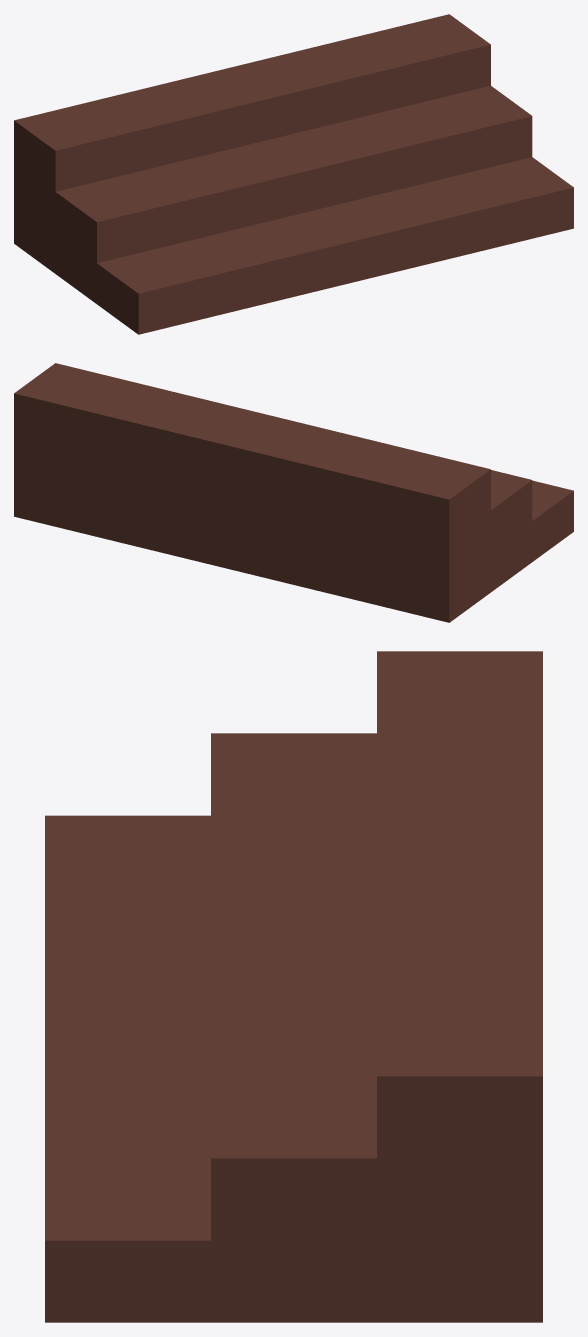
Rendered from Stairs_009.glb.
3 views of the same model, one above another, from view 1: azimuth 30°, elevation 25°; view 2: azimuth 150°, elevation 25°; view 3: azimuth 270°, elevation 25° (orthographic). The views are drawn at different scales.
Visible parts, largest first — view 1: Stairs_009; view 2: Stairs_009; view 3: Stairs_009.
Part boxes in pixels (x1,y1,x2,y2): Stairs_009: [14, 14, 573, 334]; Stairs_009: [14, 363, 573, 622]; Stairs_009: [45, 651, 542, 1322].
Size of the model in its own units: 1.62 by 0.4382 by 0.8027.
Materials: 1 (1 with a texture image).
